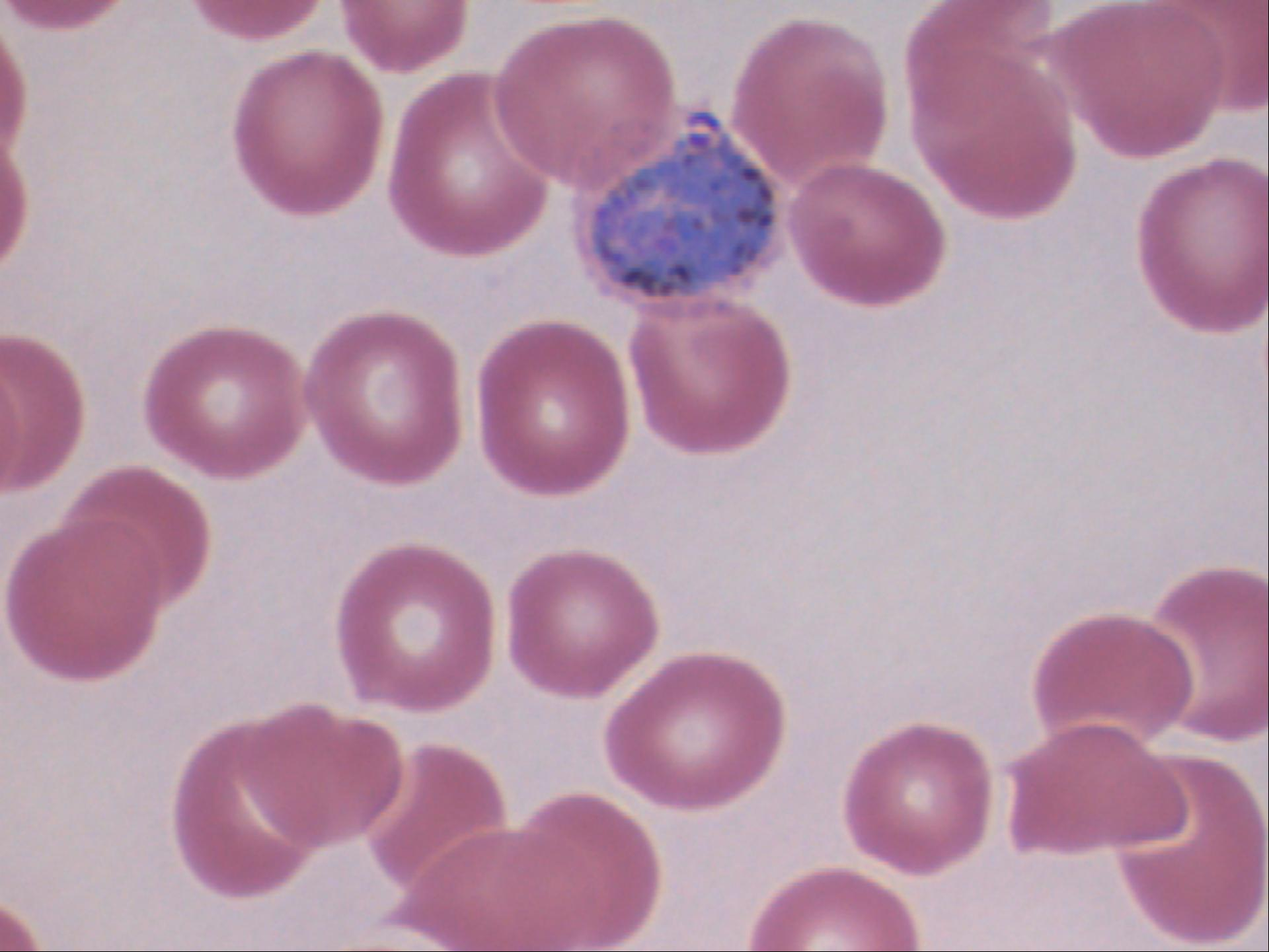Infected: (564, 100, 792, 325)
Uninfected: (917, 25, 1078, 219), (489, 21, 670, 191), (388, 67, 552, 245), (608, 650, 784, 805), (335, 536, 488, 713), (300, 311, 455, 485), (242, 699, 413, 851), (1013, 712, 1191, 857), (392, 827, 598, 952), (476, 322, 627, 491), (174, 730, 319, 905), (1060, 1, 1222, 154), (236, 47, 383, 215), (1132, 756, 1263, 940), (842, 721, 993, 880), (150, 324, 301, 482), (738, 21, 881, 185), (15, 518, 159, 674), (793, 153, 940, 304), (637, 296, 781, 450), (1141, 157, 1266, 332), (529, 791, 664, 952), (507, 551, 652, 698), (370, 738, 504, 896), (59, 465, 207, 608), (1157, 567, 1269, 742), (1035, 617, 1190, 742)
